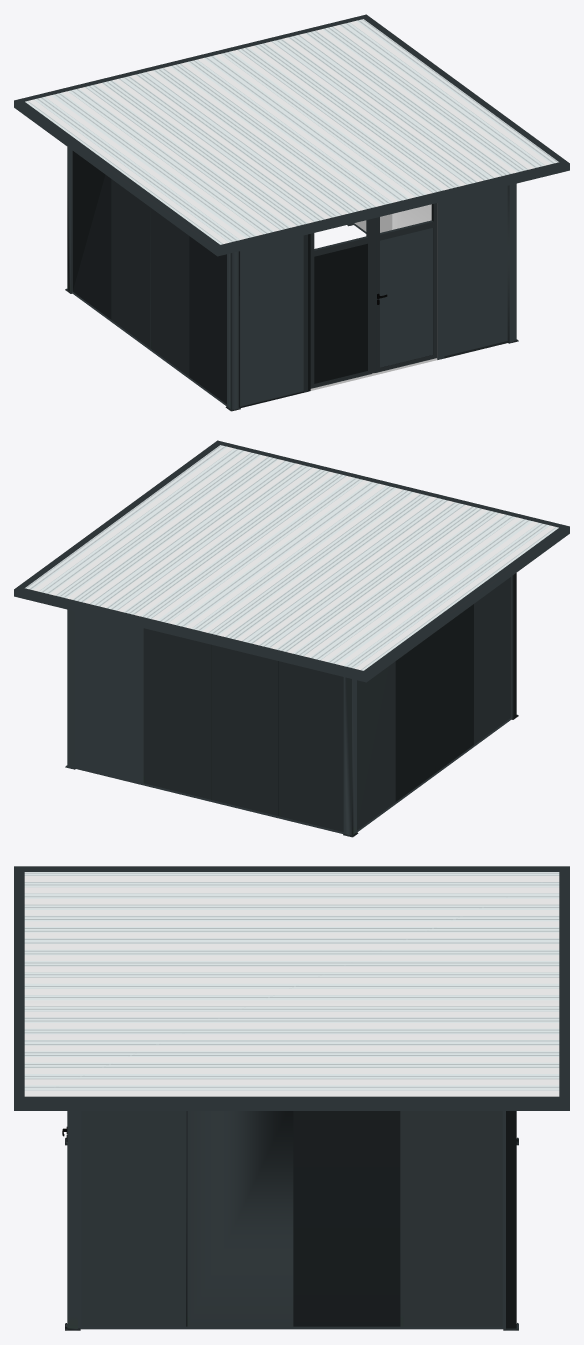
3 views of the same model, one above another, from view 1: azimuth 30°, elevation 25°; view 2: azimuth 150°, elevation 25°; view 3: azimuth 270°, elevation 25° (orthographic). The views are drawn at different scales.
Visible parts, largest first — view 1: priximbattable_net_abris_de_jardin_640008_abri_de_jardin_ane, folha, folha_2, porta_avec_hublot; view 2: priximbattable_net_abris_de_jardin_640008_abri_de_jardin_ane; view 3: priximbattable_net_abris_de_jardin_640008_abri_de_jardin_ane.
Boxes of the visible parts, x1,y1,x2,y2 form: priximbattable_net_abris_de_jardin_640008_abri_de_jardin_ane: (14,14,569,411); folha: (310,218,375,388); folha_2: (375,203,436,372); porta_avec_hublot: (303,201,444,392); priximbattable_net_abris_de_jardin_640008_abri_de_jardin_ane: (14,440,569,837); priximbattable_net_abris_de_jardin_640008_abri_de_jardin_ane: (14,866,569,1330).
Size of the model in its own units: 520 by 259 by 520.
Materials: 1 (1 with a texture image).
